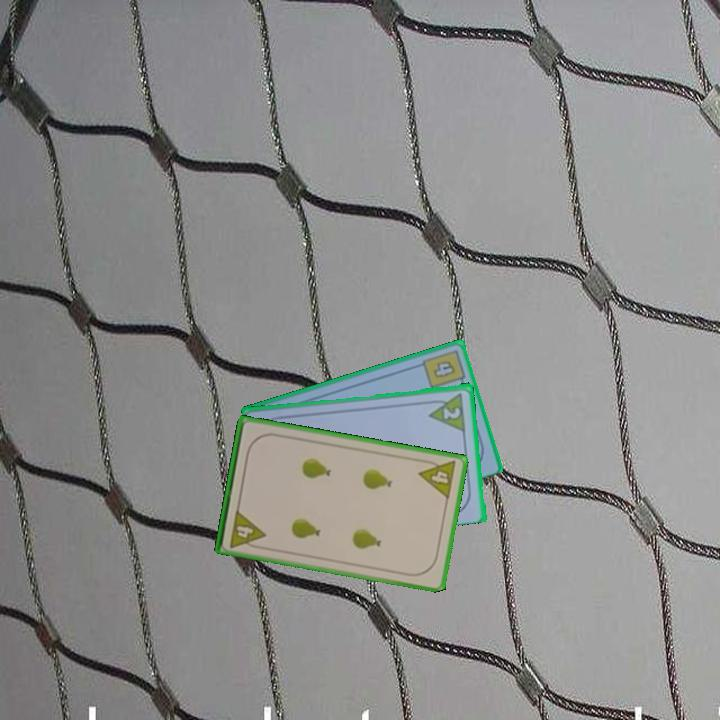2p: (440, 403, 464, 422)
4b: (419, 346, 468, 391)
4p: (415, 455, 459, 502), (226, 506, 268, 552)
